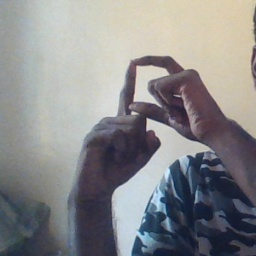D: (102, 51, 203, 146)
